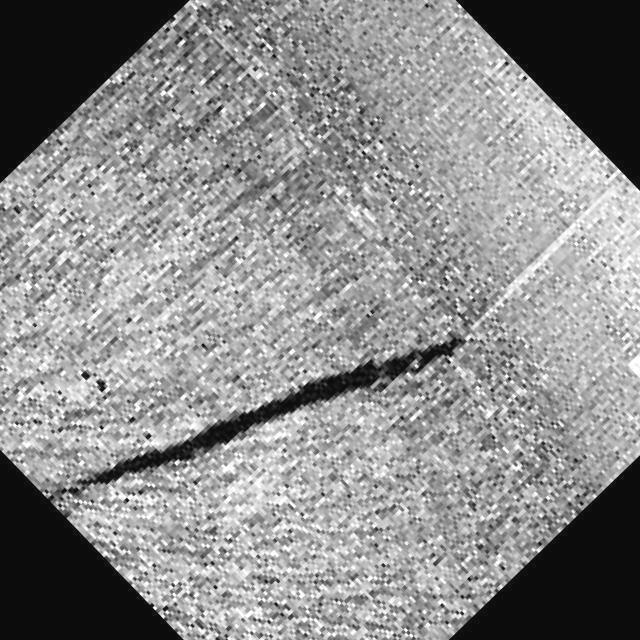defect: (43, 330, 474, 513)
